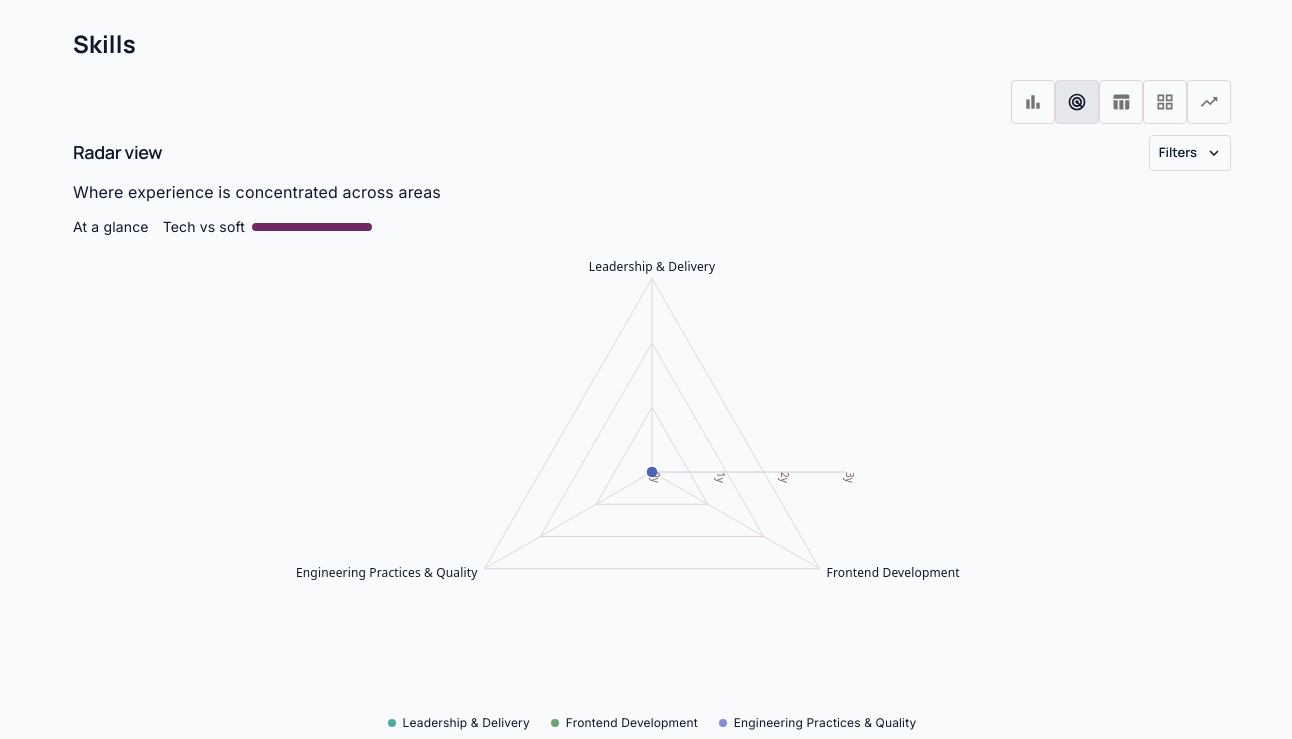
Test: Skills › rendering › shows the filter bar in table view as well as graph view
Click the button named "Table view": (1121, 102) [1099, 80, 1143, 124]
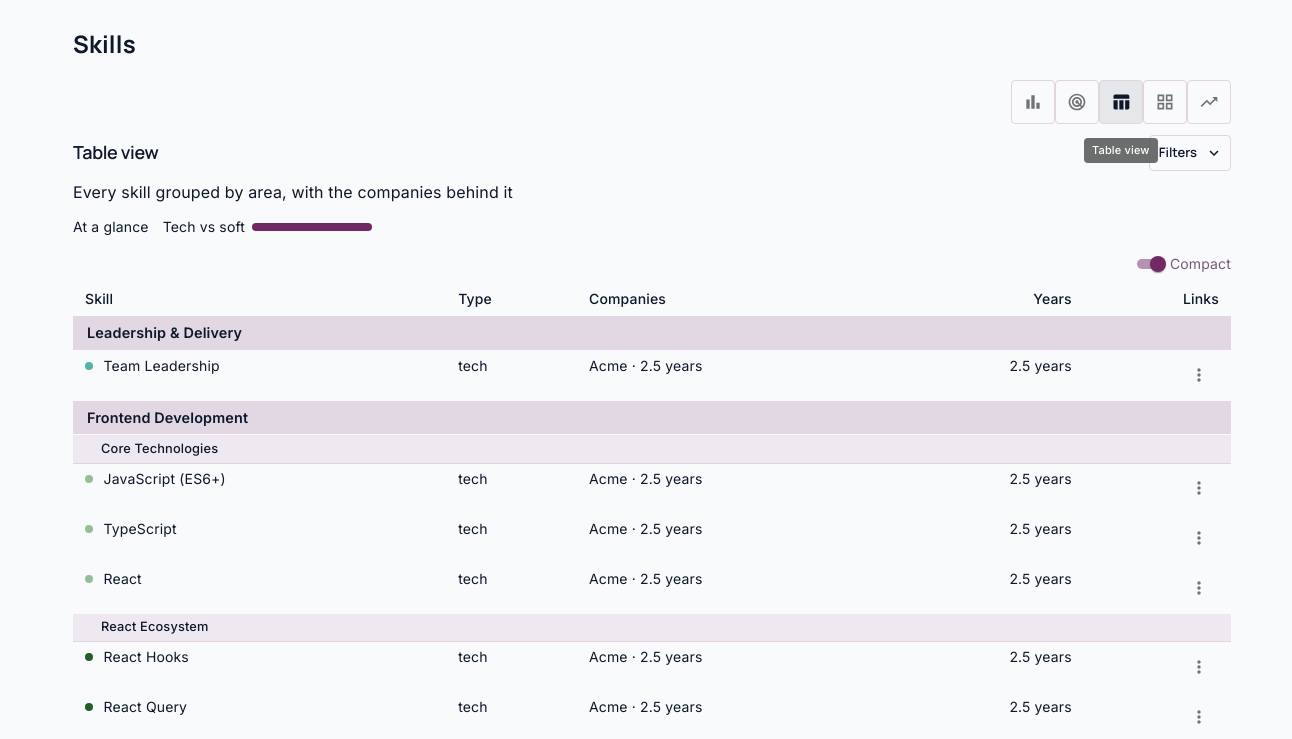
Click the button "Filters": (1190, 153) [1149, 135, 1231, 171]
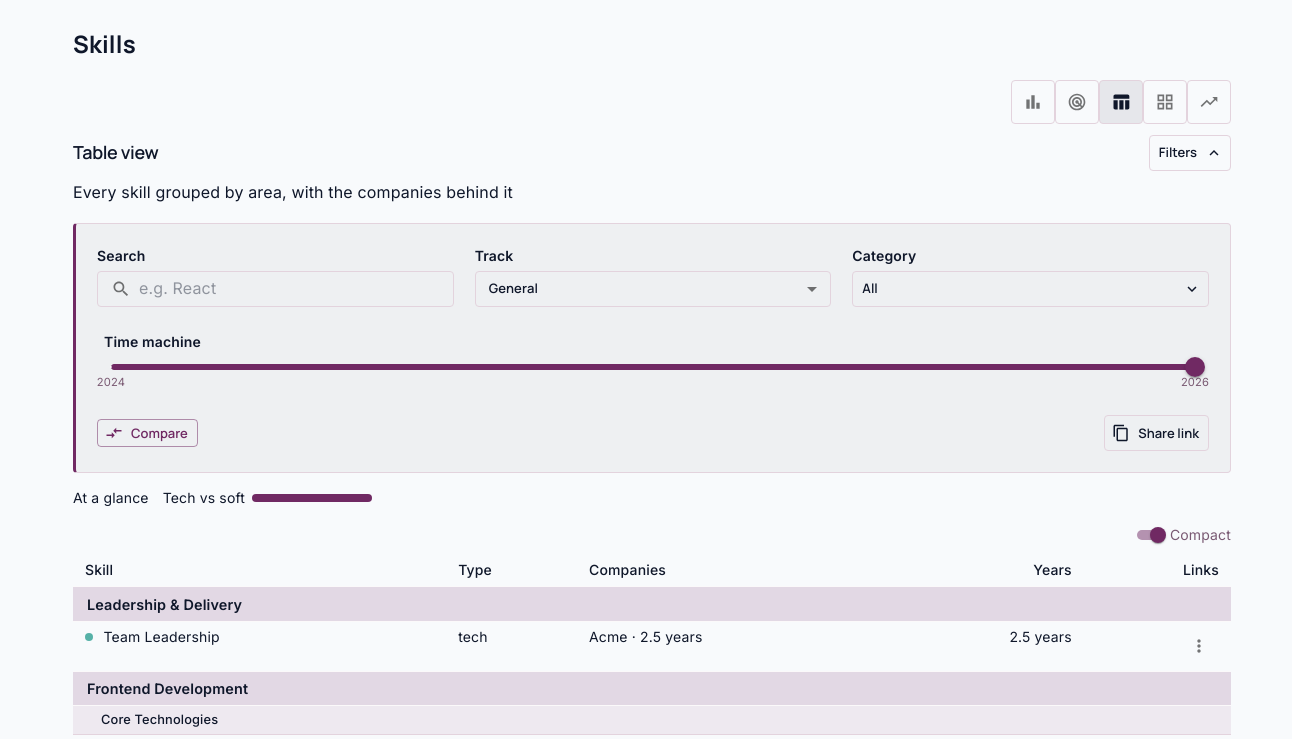
Expected: the button with aria-label "Filter skills by category, currently: All" is shown, [852, 271, 1209, 307]
